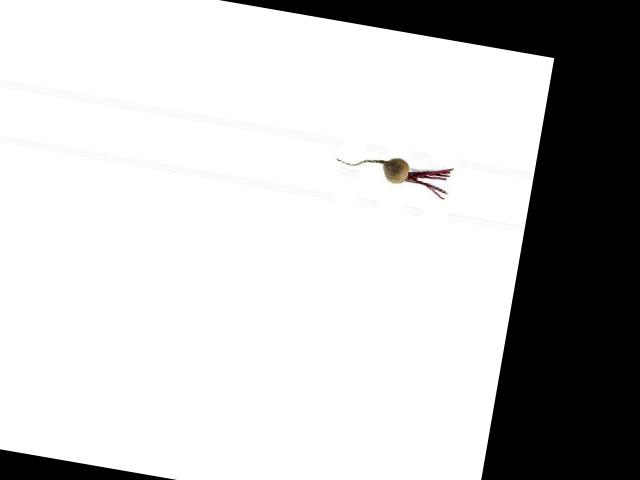beet: (331, 147, 452, 199)
